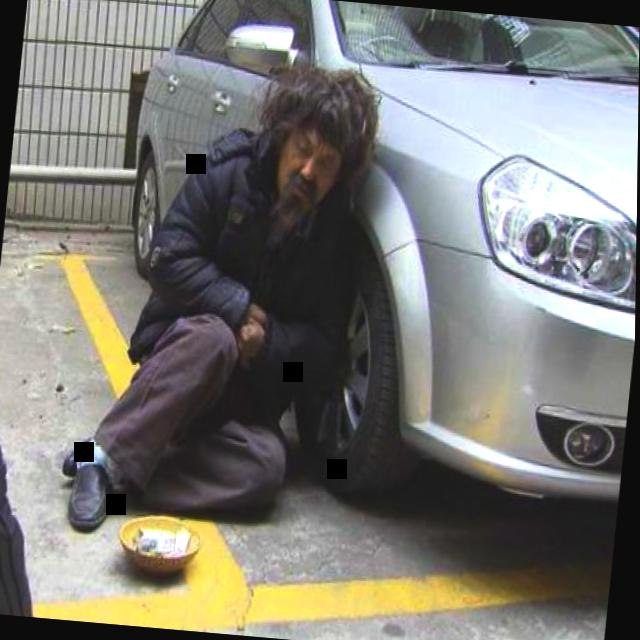Fall-Detected: (23, 28, 403, 562)
